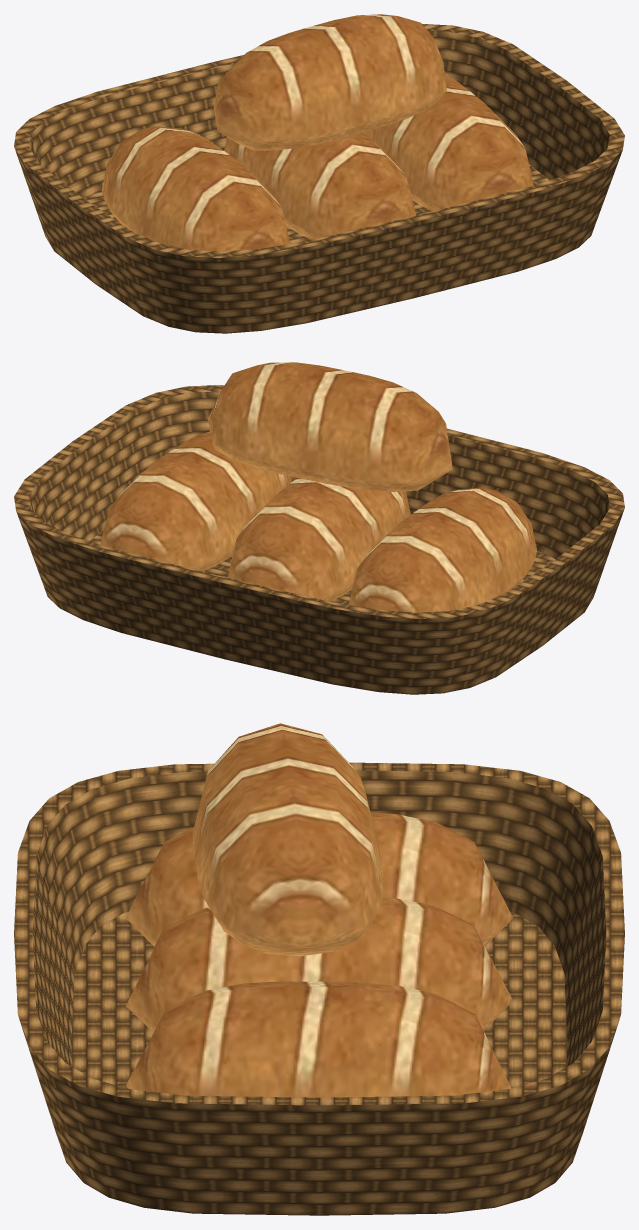
File: vuena-sk-bakery-basket-bread.glb
3 renders of one model, top to bottom at view 1: azimuth 30°, elevation 25°; view 2: azimuth 150°, elevation 25°; view 3: azimuth 270°, elevation 25°, orthographic. The views are drawn at different scales.
Parts seen in each view (by area): view 1: sk_bakery_basket_bread; view 2: sk_bakery_basket_bread; view 3: sk_bakery_basket_bread.
Part boxes in pixels (x1=…): sk_bakery_basket_bread: x1=14, y1=14, x2=624, y2=333; sk_bakery_basket_bread: x1=14, y1=362, x2=624, y2=694; sk_bakery_basket_bread: x1=14, y1=723, x2=624, y2=1215.
Size of the model in its own units: 0.524 by 0.2123 by 0.394.
2 materials, 2 textured.
